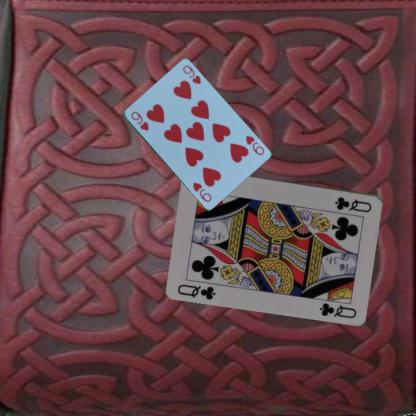9h: (127, 108, 150, 132), (243, 133, 265, 156)
Qc: (175, 281, 217, 301), (332, 194, 373, 214)
